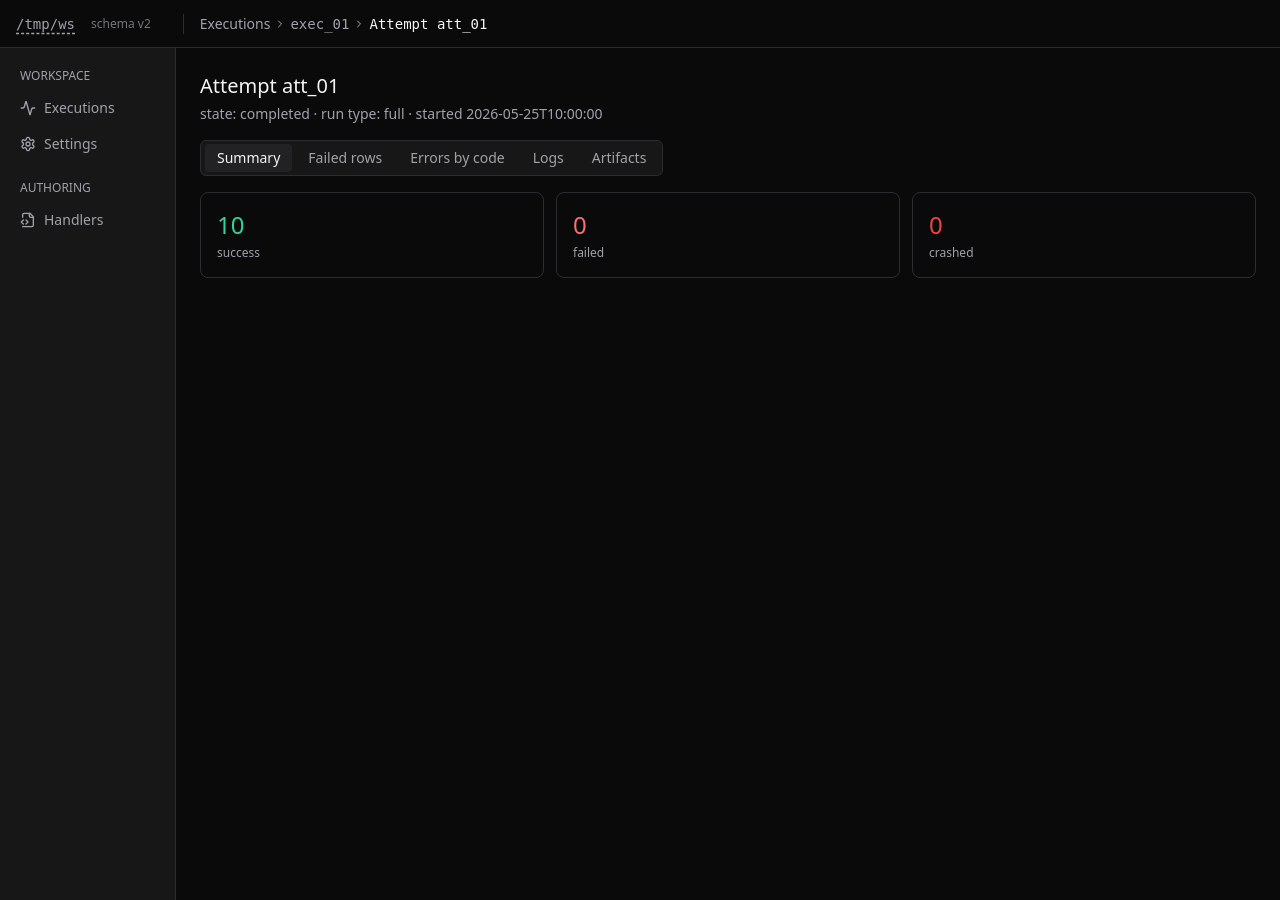
AttemptDetailPage — Logs tab › switching to Logs tab renders AttemptLogsTab content
Expected: the tab "Summary" is shown, left=205, top=144, right=292, bottom=172
Press the mouse on the tab "Logs" at (548, 158), box left=521, top=144, right=576, bottom=172
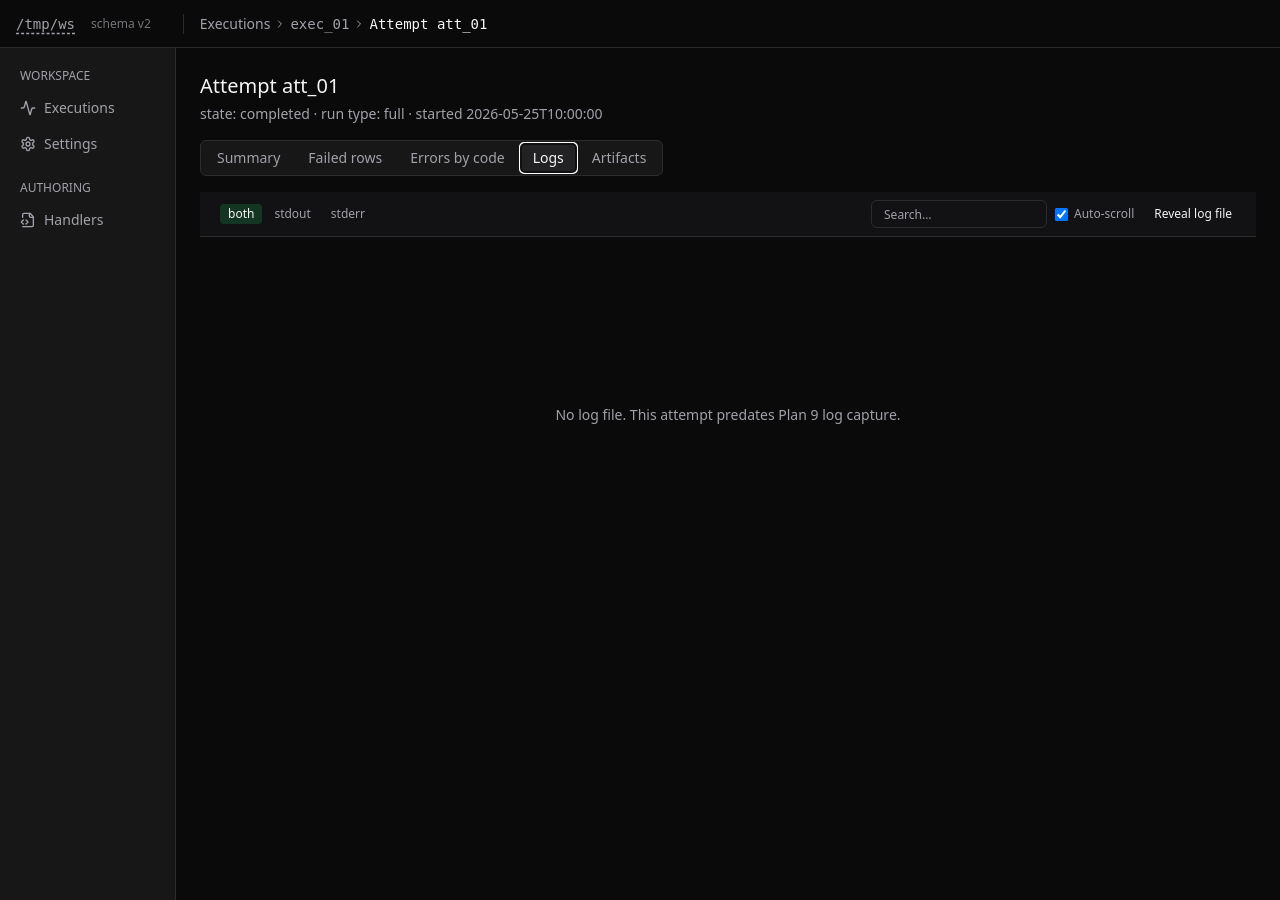
Result: the text "loading logs" is shown at left=200, top=192, right=1256, bottom=424
